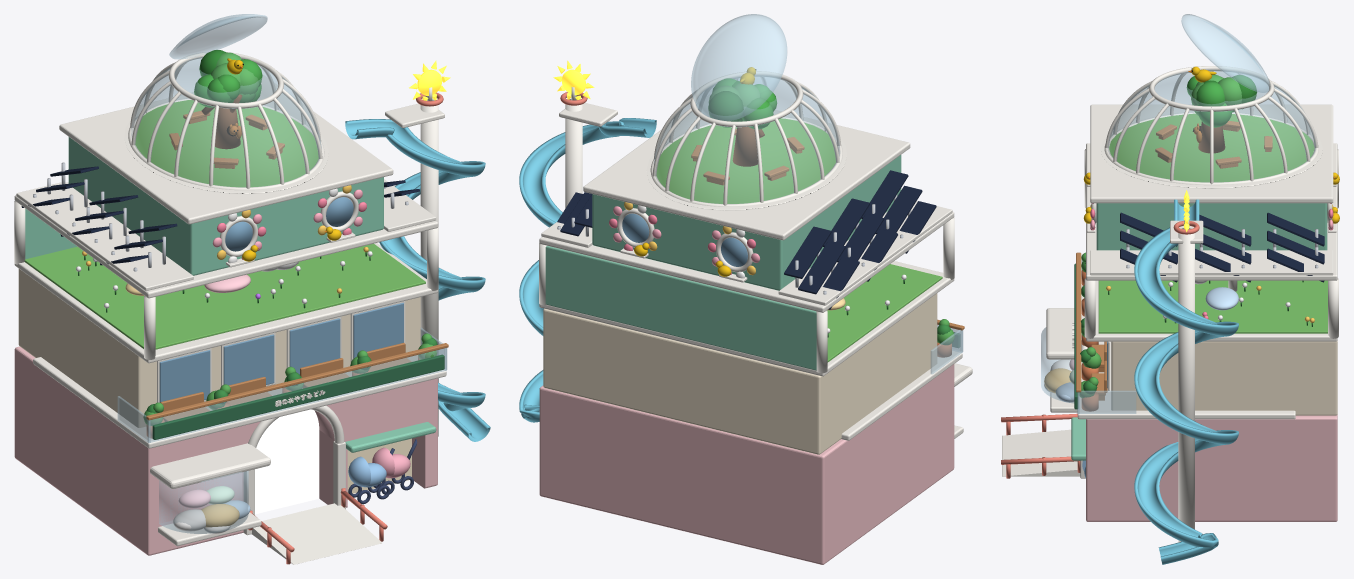
File: A_mori-oyasumi.glb
3 renders of one model, left to right at view 1: azimuth 30°, elevation 25°; view 2: azimuth 150°, elevation 25°; view 3: azimuth 270°, elevation 25°, orthographic. The views are drawn at different scales.
Parts seen in each view (by area): view 1: 1F_かべ.001, 3F_しばふ.001, ガラスのドーム.001, 2F_かべ.001, 4F_かべ.001, 4F_やね.001, ドームのしばふ.001, らせんのすべり台.001, 段_-1.001, 入口_おく.001, 3F_ゆか.001, 看板_帯.001 (+33 smaller); view 2: 1F_かべ.001, 2F_かべ.001, 3F_おくの壁.001, ガラスのドーム.001, 4F_やね.001, ドームのしばふ.001, 4F_かべ.001, 天窓（晴れの日はひらく）.001, らせんのすべり台.001, 3F_しばふ.001, 3F_天井.001, 3F_ゆか.001 (+25 smaller); view 3: 1F_かべ.001, ガラスのドーム.001, 2F_かべ.001, らせんのすべり台.001, 4F_やね.001, 3F_しばふ.001, ドームのしばふ.001, 4F_かべ.001, すべり台の柱.001, 段_1.001, 天窓（晴れの日はひらく）.001, スロープ.001 (+26 smaller).
Boxes of the visible parts, x1,y1,x2,y2 form: 1F_かべ.001: (14,346,437,555); 3F_しばふ.001: (24,243,425,349); ガラスのドーム.001: (131,57,321,187); 2F_かべ.001: (18,269,420,427); 4F_かべ.001: (68,137,383,275); 4F_やね.001: (59,75,393,224); ドームのしばふ.001: (134,100,318,187); らせんのすべり台.001: (345,119,490,441); 段_-1.001: (16,182,193,290); 入口_おく.001: (255,409,319,514); 3F_ゆか.001: (14,243,438,363); 看板_帯.001: (152,354,444,439); 1F_かべ.001: (539,364,954,564); 2F_かべ.001: (543,293,937,454); 3F_おくの壁.001: (545,246,816,370); ガラスのドーム.001: (653,76,839,203); 4F_やね.001: (583,95,910,240); ドームのしばふ.001: (656,118,835,203); 4F_かべ.001: (592,155,901,290); 天窓（晴れの日はひらく）.001: (691,14,787,120); らせんのすべり台.001: (519,118,656,422); 3F_しばふ.001: (827,264,942,362); 3F_天井.001: (539,212,954,312); 3F_ゆか.001: (539,261,954,376); 1F_かべ.001: (1086,414,1337,521); ガラスのドーム.001: (1107,70,1315,182); 2F_かべ.001: (1111,341,1337,415); らせんのすべり台.001: (1134,199,1238,564); 4F_やね.001: (1090,104,1333,203); 3F_しばふ.001: (1098,280,1327,333); ドームのしばふ.001: (1109,113,1314,182); 4F_かべ.001: (1096,203,1327,250); すべり台の柱.001: (1178,228,1194,542); 段_1.001: (1090,250,1333,275); 天窓（晴れの日はひらく）.001: (1181,14,1270,92); スロープ.001: (1002,429,1080,476).
Bounding box in the file's own units: 200 × 232 × 162.
